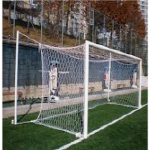goals: (35, 39, 144, 139)
